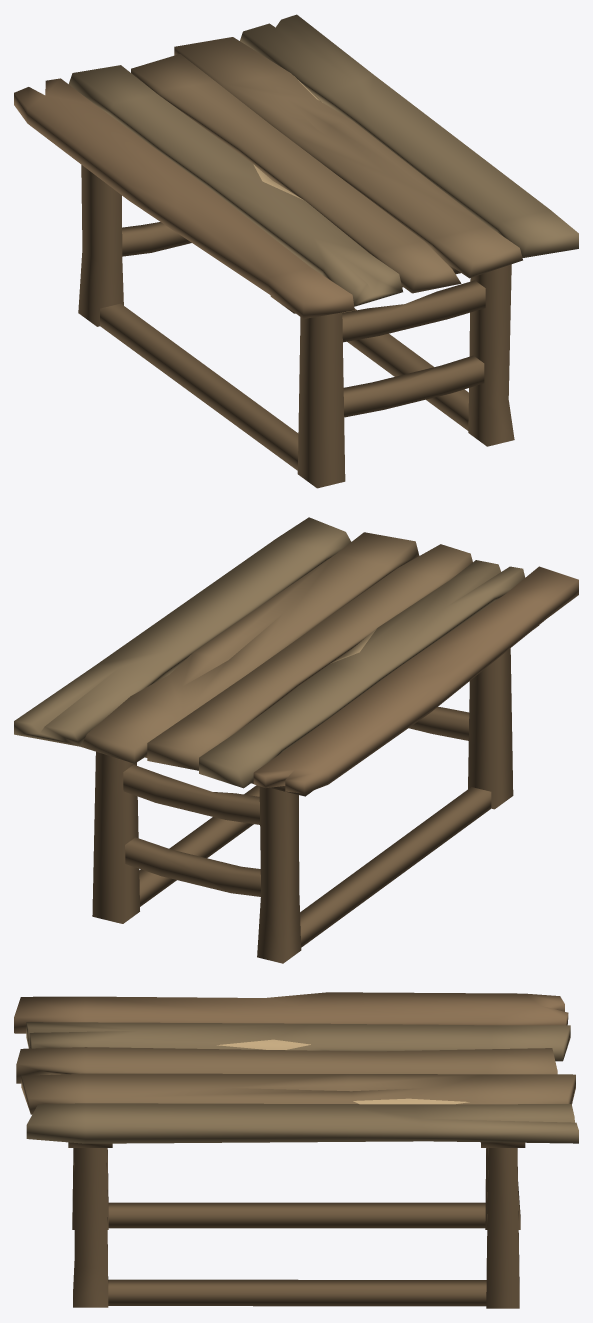
File: rpgpp_ag_table_03.fbx
The picture shows the model from 3 angles, top to bottom: view 1: azimuth 30°, elevation 25°; view 2: azimuth 150°, elevation 25°; view 3: azimuth 270°, elevation 25°; orthographic projection. The views are drawn at different scales.
Visible parts, largest first — view 1: rpgpp_ag_table_03; view 2: rpgpp_ag_table_03; view 3: rpgpp_ag_table_03.
Part boxes in pixels (x1,y1,x2,y2): rpgpp_ag_table_03: [14, 14, 578, 488]; rpgpp_ag_table_03: [14, 517, 578, 963]; rpgpp_ag_table_03: [14, 992, 578, 1308].
Size of the model in its own units: 1.17 by 0.7981 by 2.03.
